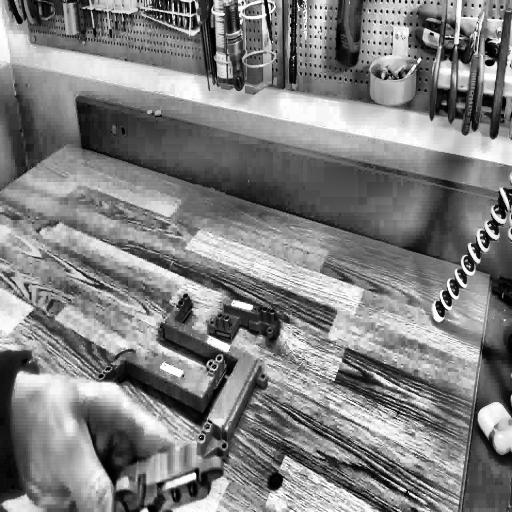busbar: (157, 294, 268, 457), (70, 444, 227, 512), (99, 347, 228, 415), (210, 296, 281, 339)
